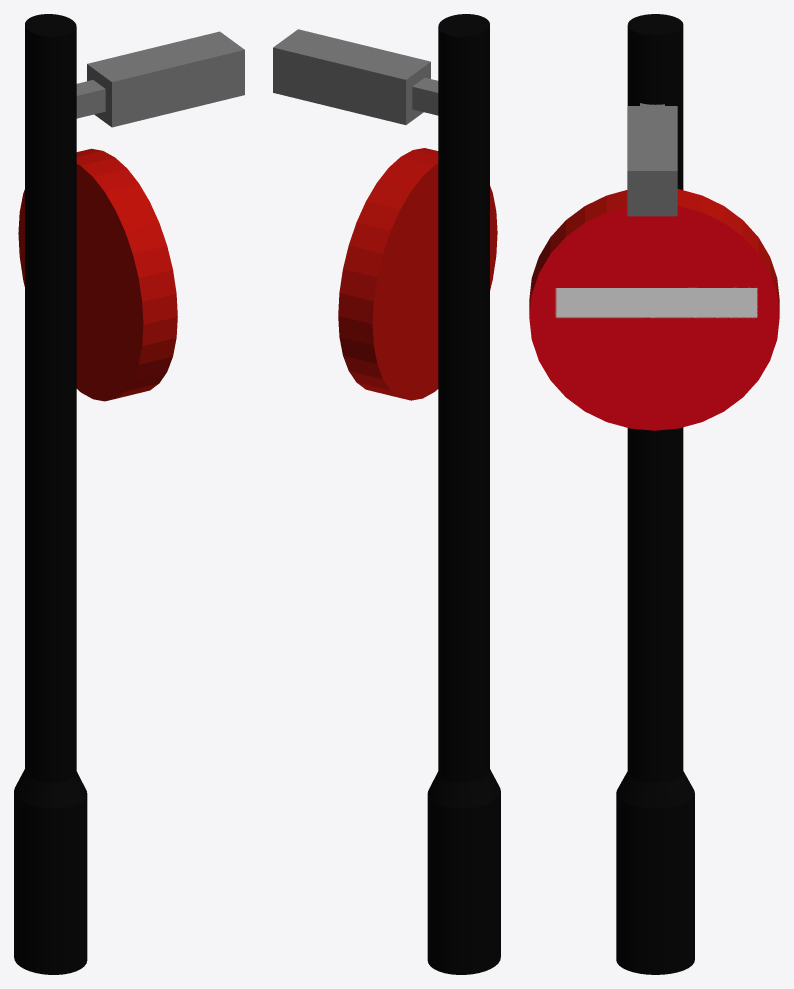
The model's file is NoEntry.fbx.
3 renders of one model, left to right at view 1: azimuth 30°, elevation 25°; view 2: azimuth 150°, elevation 25°; view 3: azimuth 270°, elevation 25°, orthographic.
Parts seen in each view (by area): view 1: Cylinder, Circle, Cube; view 2: Cylinder, Circle, Cube; view 3: Circle, Cylinder, Cube.
Part boxes in pixels (bbox=[...]): Cylinder: bbox=[14, 14, 87, 974]; Circle: bbox=[18, 148, 177, 401]; Cube: bbox=[76, 31, 244, 127]; Cylinder: bbox=[427, 14, 500, 974]; Circle: bbox=[338, 148, 497, 400]; Cube: bbox=[273, 29, 438, 124]; Circle: bbox=[529, 189, 779, 430]; Cylinder: bbox=[616, 14, 694, 974]; Cube: bbox=[627, 103, 677, 216].
Size of the model in its own units: 101 by 428 by 104.
